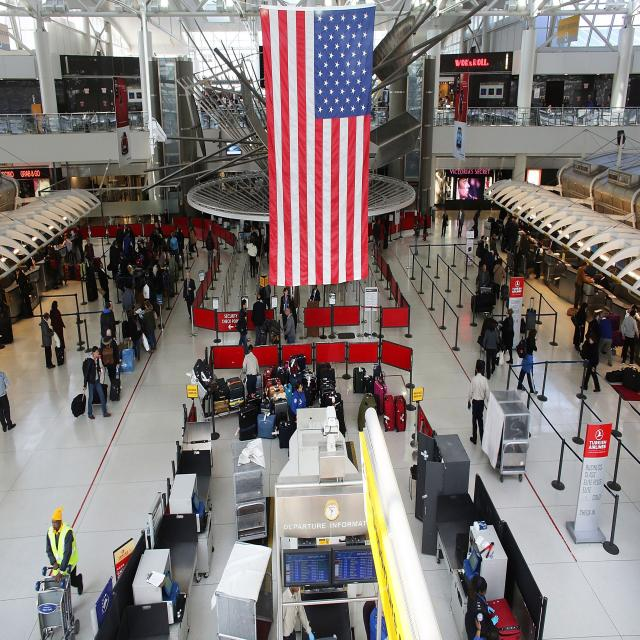body: (44, 505, 84, 597), (537, 91, 617, 125), (218, 170, 270, 222), (434, 170, 512, 204), (466, 574, 499, 640), (82, 345, 111, 420), (128, 247, 158, 318), (276, 587, 315, 640), (467, 361, 490, 445), (515, 328, 539, 395), (100, 328, 120, 392), (435, 84, 467, 123), (580, 333, 601, 392), (0, 359, 16, 434), (482, 318, 501, 381), (573, 261, 594, 313), (620, 309, 639, 366), (620, 304, 640, 358), (140, 299, 159, 354), (0, 280, 15, 346), (570, 301, 589, 353), (18, 177, 52, 206), (242, 343, 260, 397), (369, 592, 389, 640), (128, 304, 144, 364), (48, 300, 66, 353), (40, 312, 56, 371), (498, 308, 514, 364), (47, 244, 68, 286), (598, 313, 614, 367), (201, 92, 244, 112), (250, 294, 266, 346), (235, 298, 249, 356), (470, 617, 503, 640), (279, 287, 292, 341), (183, 271, 197, 321), (150, 227, 184, 247), (286, 286, 300, 334), (100, 301, 116, 342), (25, 110, 51, 135), (290, 380, 307, 416), (280, 306, 296, 344), (492, 257, 506, 300), (98, 261, 112, 303), (15, 267, 31, 303), (122, 282, 136, 322), (167, 252, 179, 298), (109, 302, 122, 344), (258, 273, 272, 310), (501, 215, 514, 253), (122, 230, 133, 274), (106, 241, 118, 281), (370, 102, 390, 126), (587, 312, 601, 346), (475, 264, 490, 294), (533, 241, 544, 281), (116, 86, 127, 126), (246, 235, 256, 278), (205, 229, 215, 271), (187, 222, 199, 257), (141, 270, 154, 301), (170, 232, 180, 272), (186, 215, 196, 253), (76, 224, 85, 265), (155, 263, 166, 296), (83, 237, 95, 267), (87, 109, 101, 134), (263, 228, 272, 266), (176, 227, 185, 265), (509, 216, 518, 254), (50, 253, 59, 290), (456, 206, 466, 238), (472, 206, 482, 238), (522, 231, 530, 271), (138, 240, 148, 270), (378, 218, 386, 255), (513, 240, 521, 277), (382, 213, 390, 249), (519, 230, 527, 266), (135, 282, 146, 308), (115, 222, 124, 252), (64, 233, 72, 266), (413, 218, 420, 255), (440, 209, 449, 237), (548, 236, 556, 266), (119, 252, 128, 278), (476, 235, 486, 258), (308, 285, 321, 302), (373, 217, 380, 248), (489, 232, 498, 255), (58, 228, 64, 262), (128, 226, 136, 251), (422, 214, 429, 241), (157, 245, 165, 268), (155, 222, 163, 243), (145, 235, 154, 253), (600, 271, 609, 289), (162, 209, 170, 225), (490, 250, 494, 282), (250, 227, 259, 240), (137, 234, 144, 250), (503, 213, 510, 229), (153, 258, 159, 276), (253, 224, 259, 238), (422, 215, 425, 241), (520, 220, 526, 233), (483, 243, 490, 253), (256, 236, 261, 248), (112, 240, 118, 250), (124, 224, 129, 234), (212, 216, 218, 224), (170, 230, 174, 240)
